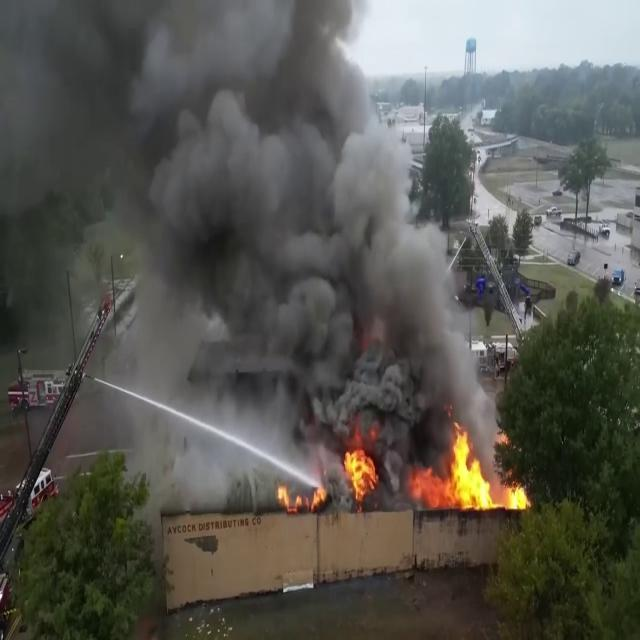Fire: (424, 423, 530, 518), (341, 435, 377, 503)
Smoke: (0, 0, 498, 443)
